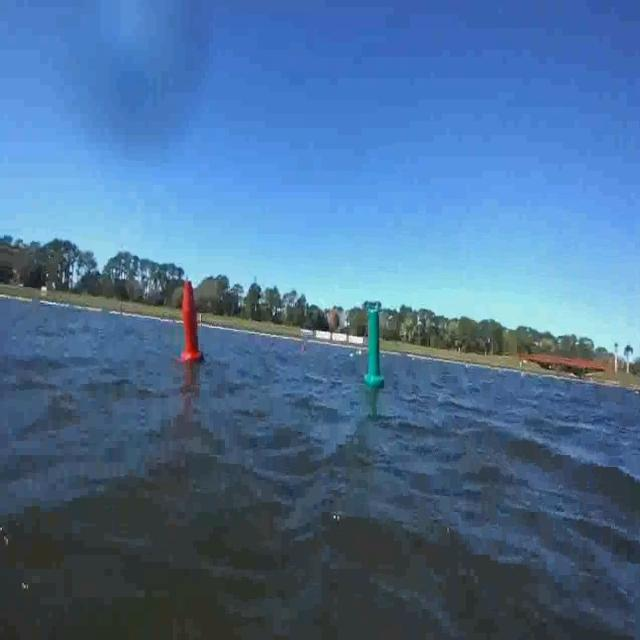green-column-buoy: (363, 307, 384, 387)
red-column-buoy: (178, 278, 202, 362)
